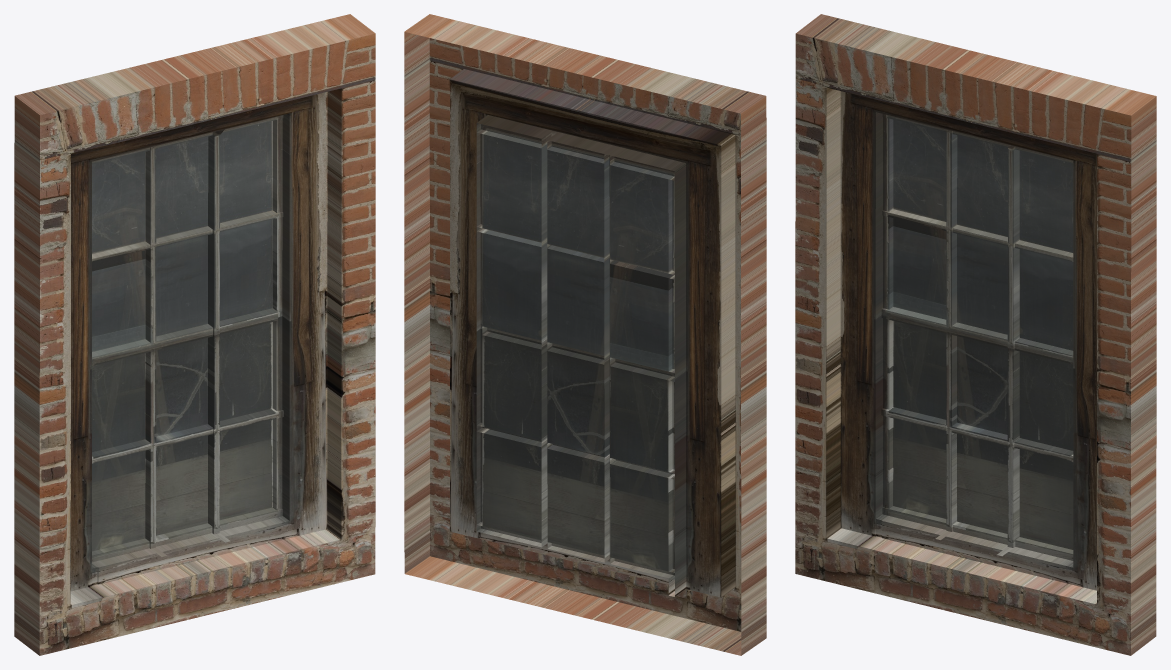
File: window2.fbx
The picture shows the model from 3 angles, left to right: view 1: azimuth 30°, elevation 25°; view 2: azimuth 150°, elevation 25°; view 3: azimuth 330°, elevation 25°; orthographic projection.
Visible parts, largest first — view 1: Plane; view 2: Plane; view 3: Plane.
Boxes of the visible parts, x1,y1,x2,y2 form: Plane: (14,14,375,655); Plane: (404,14,766,655); Plane: (795,14,1156,655).
Size of the model in its own units: 282 by 434 by 36.97.
1 material, 1 textured.
